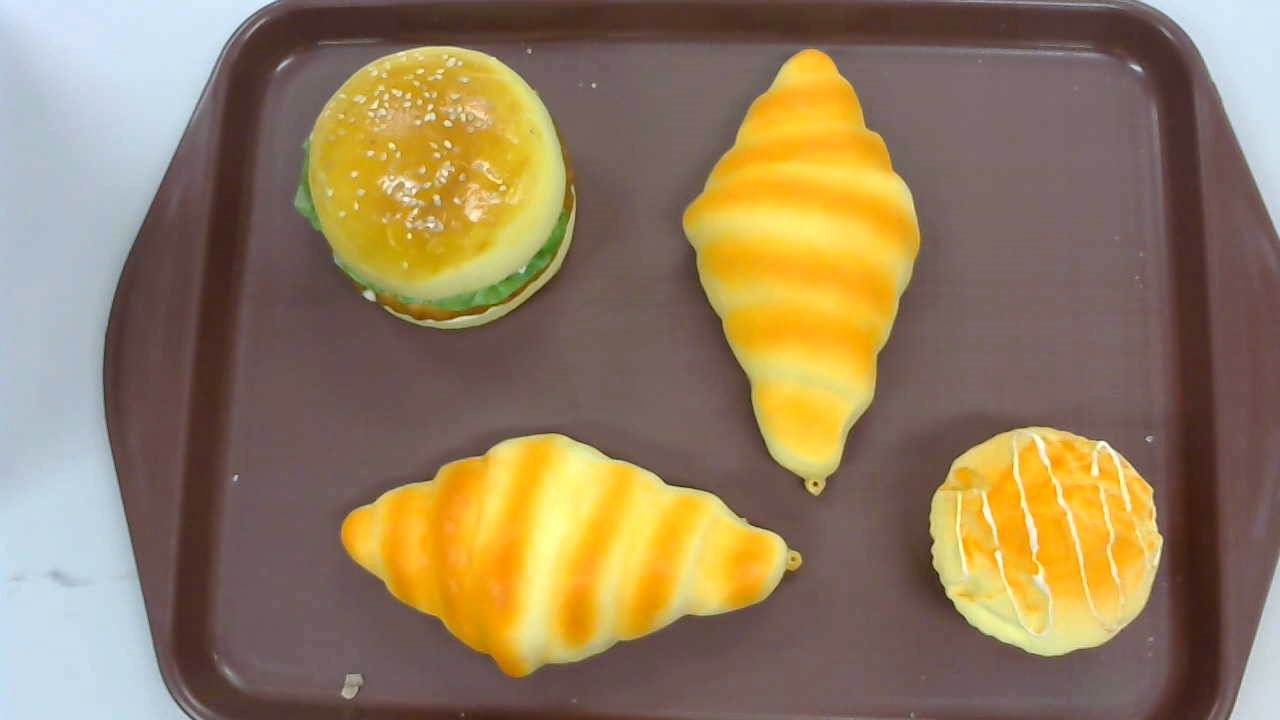croissant: (340, 434, 803, 680), (681, 47, 922, 496)
cupcake: (929, 426, 1164, 657)
hamburger: (294, 45, 576, 328)
